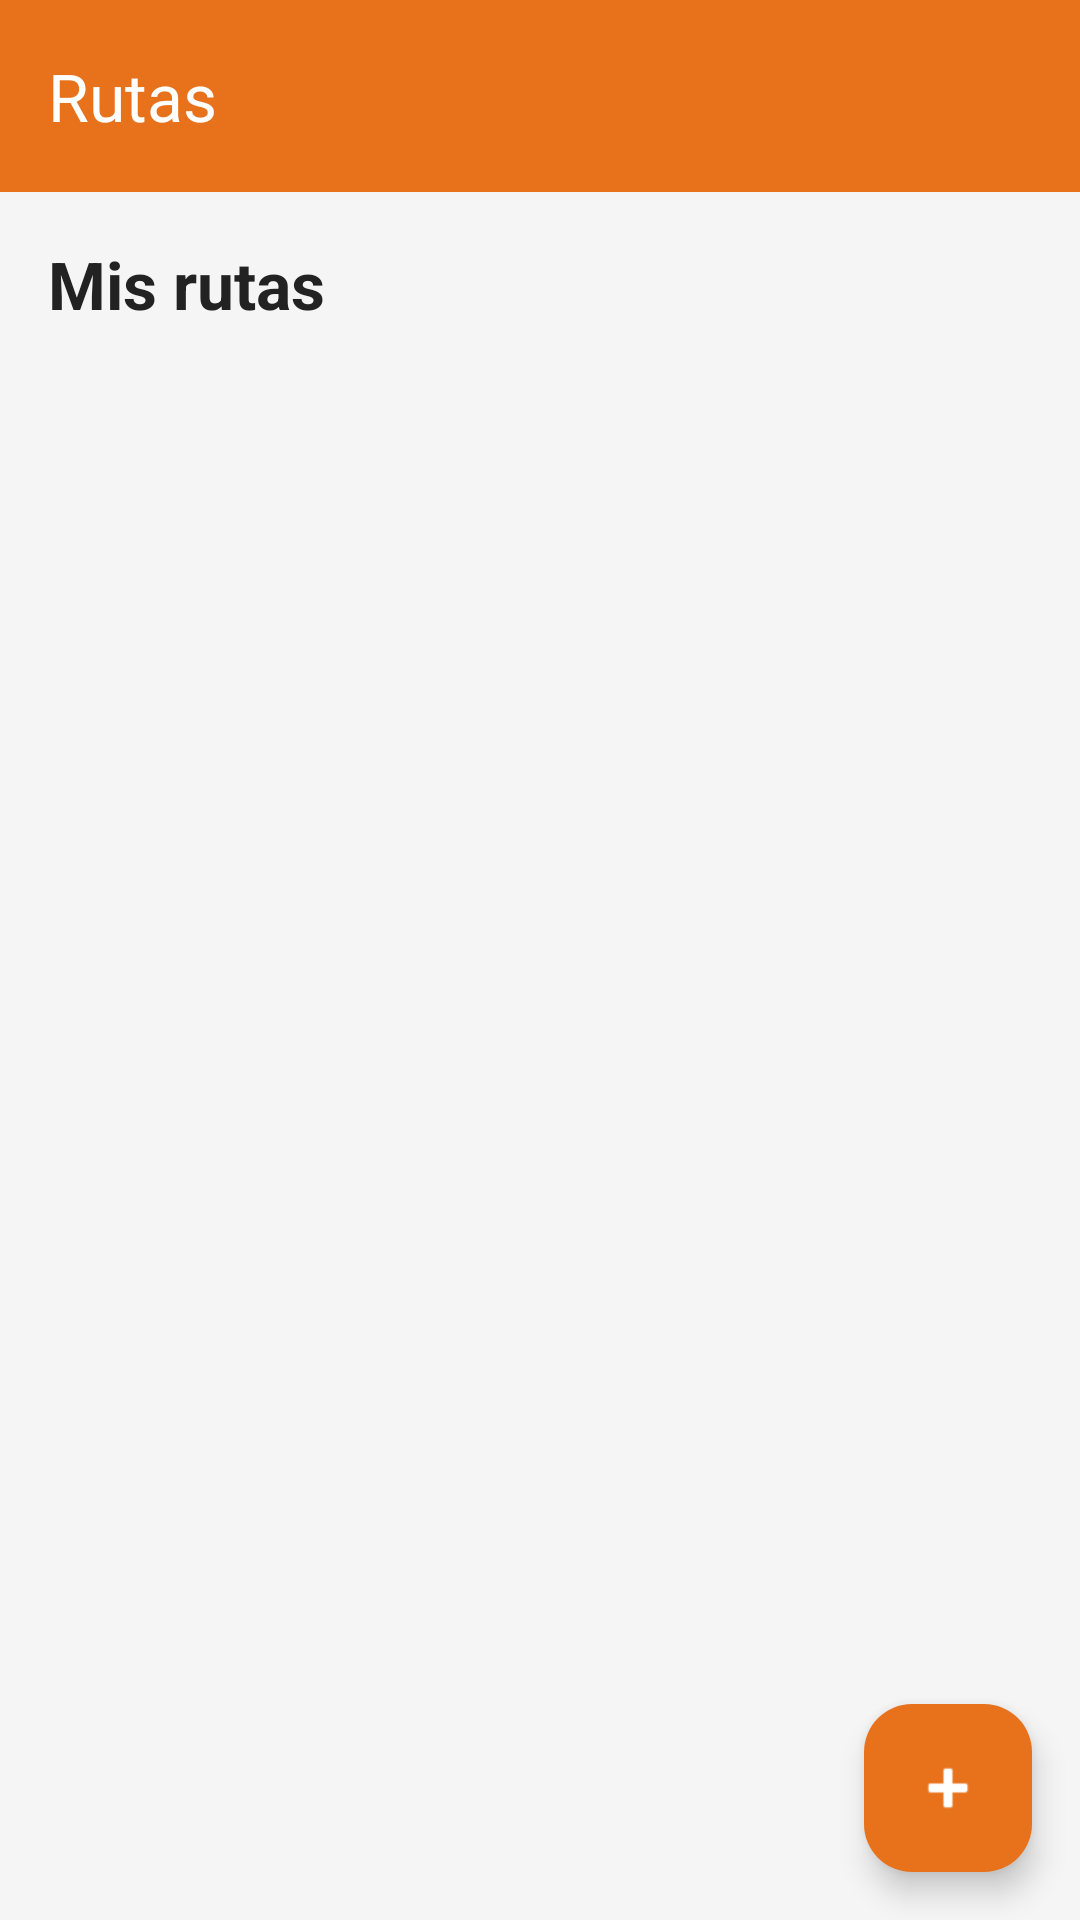

Icon bounding boxes for this 1080×1920 phone screenshot, format [left=x1, top=y1, right=x2, bottom=y2]:
Añadir ruta: [left=864, top=1704, right=1032, bottom=1872]
